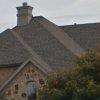Chimney: (11, 0, 37, 24)
